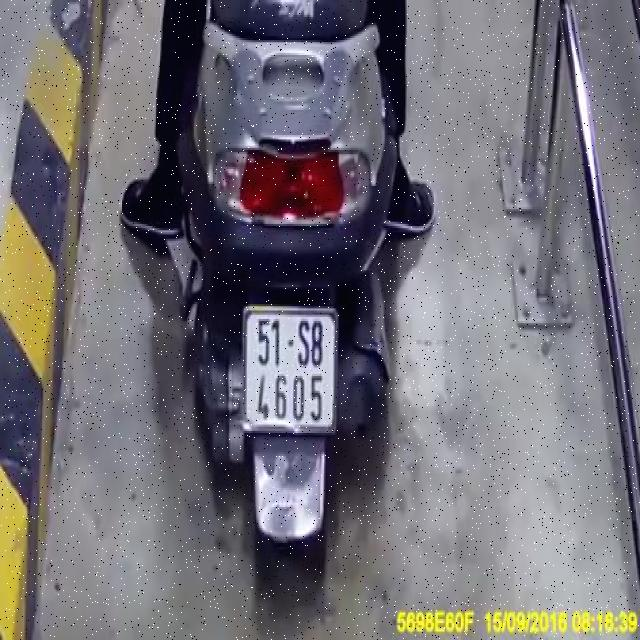0: (293, 376, 305, 422)
1: (270, 318, 282, 368)
4: (256, 369, 271, 424)
5: (255, 316, 271, 367), (309, 372, 323, 424)
6: (275, 370, 289, 420)
8: (311, 318, 324, 369)
S: (296, 320, 311, 368)
